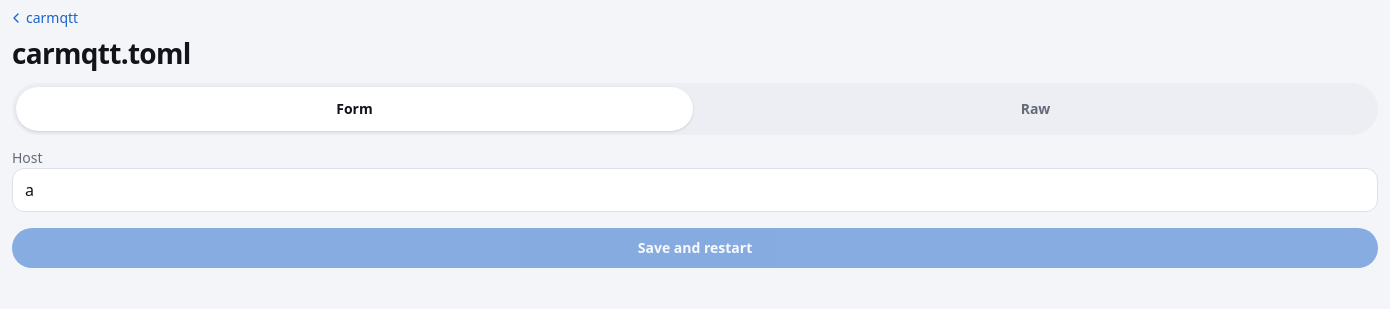
Test: the config view › form save posts only edits and maps a 400 onto the field
This screenshot has width=1390, height=309.
Step 1. Type "b" into the field labelled "Host" → (695, 190), box [12, 168, 1378, 212]
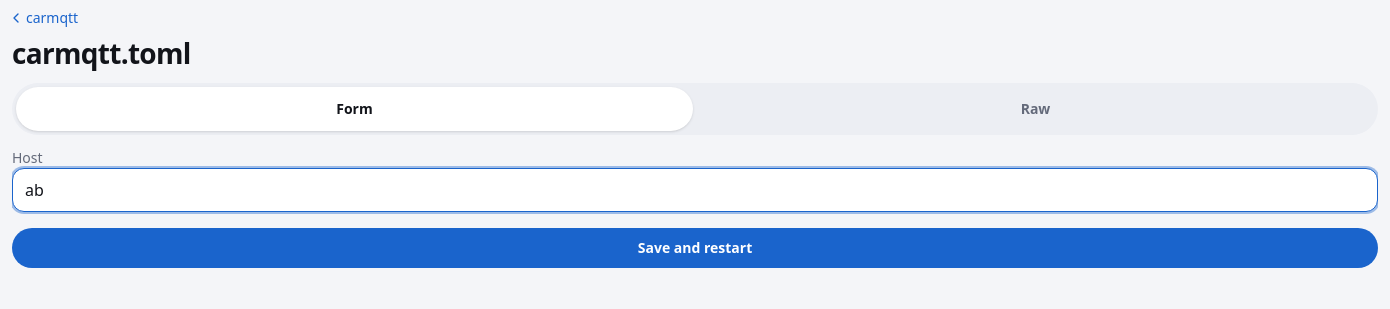
Step 2. Click the button "Save and restart" → click(695, 248), box [12, 228, 1378, 268]
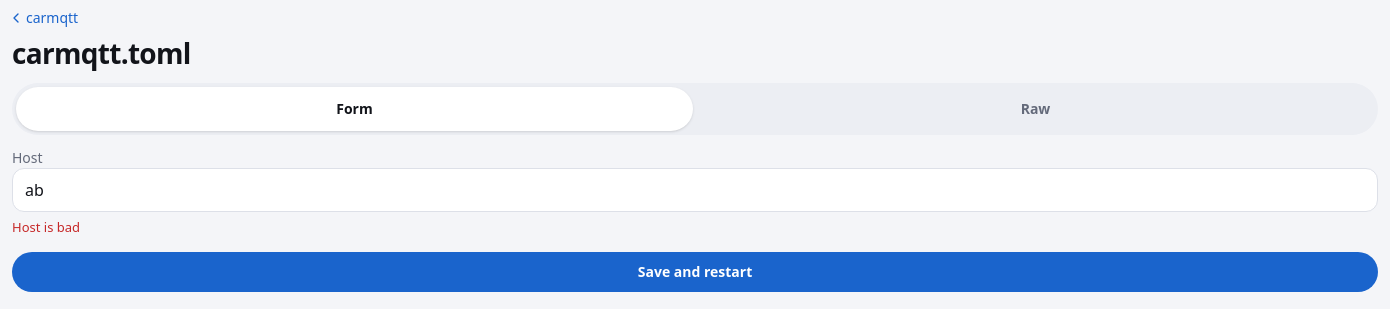
Expected: the text "Host is bad" is shown, [12, 218, 80, 236]
